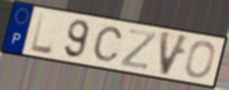9: (63, 19, 91, 60)
C: (91, 25, 125, 63)
L: (29, 11, 54, 56)
O: (183, 40, 217, 80)
V: (159, 29, 192, 78)
Z: (118, 27, 159, 71)
